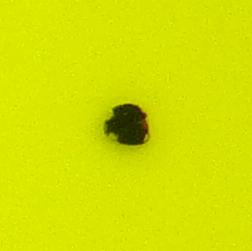Coleoptera: (100, 100, 152, 151)
